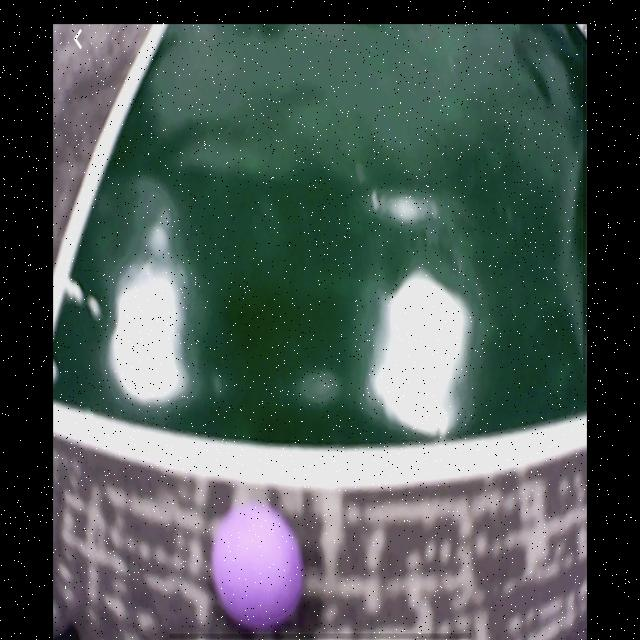ball: (211, 500, 306, 632)
